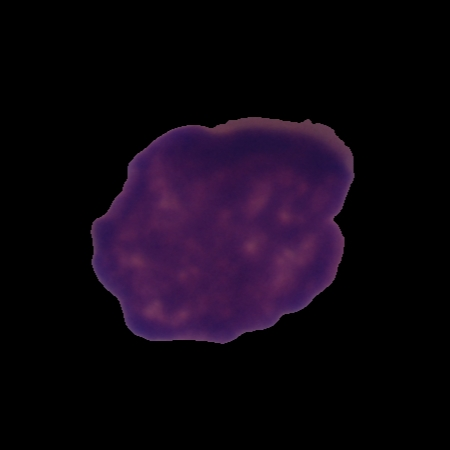ALL: (88, 111, 358, 347)
